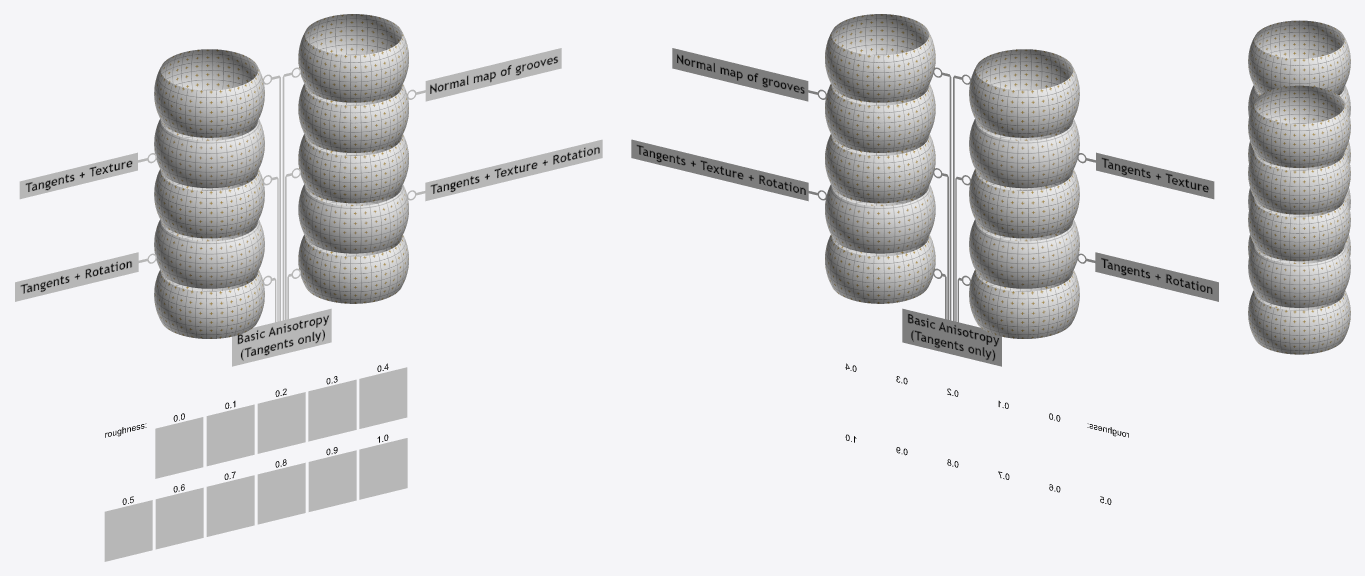
The model's file is 25_anisotropy.gltf.
The picture shows the model from 3 angles, left to right: view 1: azimuth 30°, elevation 25°; view 2: azimuth 150°, elevation 25°; view 3: azimuth 270°, elevation 25°; orthographic projection. The views are drawn at different scales.
Visible parts, largest first — view 1: Labels, Band 5L, Band 5R, Band 1L, Band 2R, Band 4R, Band 3L, Band 2L, Band 3R, Band 4L, Band 1R, Box008 (+10 smaller); view 2: Labels, Band 5L, Band 5R, Band 1L, Band 2R, Band 4R, Band 2L, Band 3L, Band 3R, Band 4L, Band 1R; view 3: Band 5R, Band 5L, Band 3R, Band 1R, Band 4R, Band 2R, Band 4L, Band 2L, Band 3L.
Boxes of the visible parts, left/top/right/bottom form: Labels: left=15, top=48, right=602, bottom=366; Band 5L: left=154, top=49, right=264, bottom=137; Band 5R: left=298, top=14, right=408, bottom=102; Band 1L: left=154, top=270, right=264, bottom=338; Band 2R: left=298, top=184, right=408, bottom=253; Band 4R: left=298, top=84, right=408, bottom=152; Band 3L: left=154, top=169, right=264, bottom=238; Band 2L: left=154, top=219, right=264, bottom=288; Band 3R: left=298, top=134, right=408, bottom=203; Band 4L: left=154, top=119, right=264, bottom=188; Band 1R: left=298, top=234, right=408, bottom=303; Box008: left=257, top=462, right=305, bottom=524; Labels: left=631, top=48, right=1218, bottom=366; Band 5L: left=969, top=49, right=1079, bottom=137; Band 5R: left=825, top=14, right=935, bottom=102; Band 1L: left=969, top=270, right=1079, bottom=338; Band 2R: left=825, top=184, right=935, bottom=253; Band 4R: left=825, top=84, right=935, bottom=152; Band 2L: left=969, top=219, right=1079, bottom=288; Band 3L: left=969, top=169, right=1079, bottom=238; Band 3R: left=825, top=134, right=935, bottom=203; Band 4L: left=969, top=119, right=1079, bottom=188; Band 1R: left=825, top=234, right=935, bottom=303; Band 5R: left=1248, top=85, right=1350, bottom=167; Band 5L: left=1248, top=20, right=1350, bottom=93; Band 3R: left=1248, top=197, right=1350, bottom=261; Band 1R: left=1248, top=290, right=1350, bottom=354; Band 4R: left=1248, top=150, right=1350, bottom=214; Band 2R: left=1248, top=244, right=1350, bottom=307; Band 4L: left=1248, top=85, right=1350, bottom=116; Band 2L: left=1248, top=188, right=1350, bottom=209; Band 3L: left=1248, top=141, right=1350, bottom=162.
Bounding box in the file's own units: 12.23 × 9.28 × 2.
Materials: 18 (6 with a texture image).
